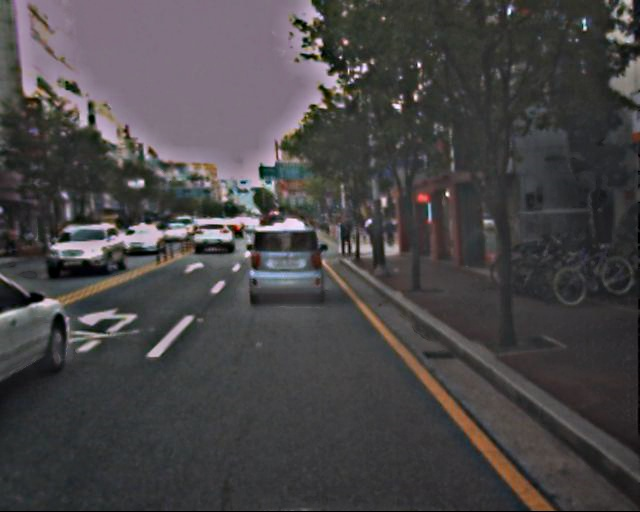person: (335, 214, 354, 261)
